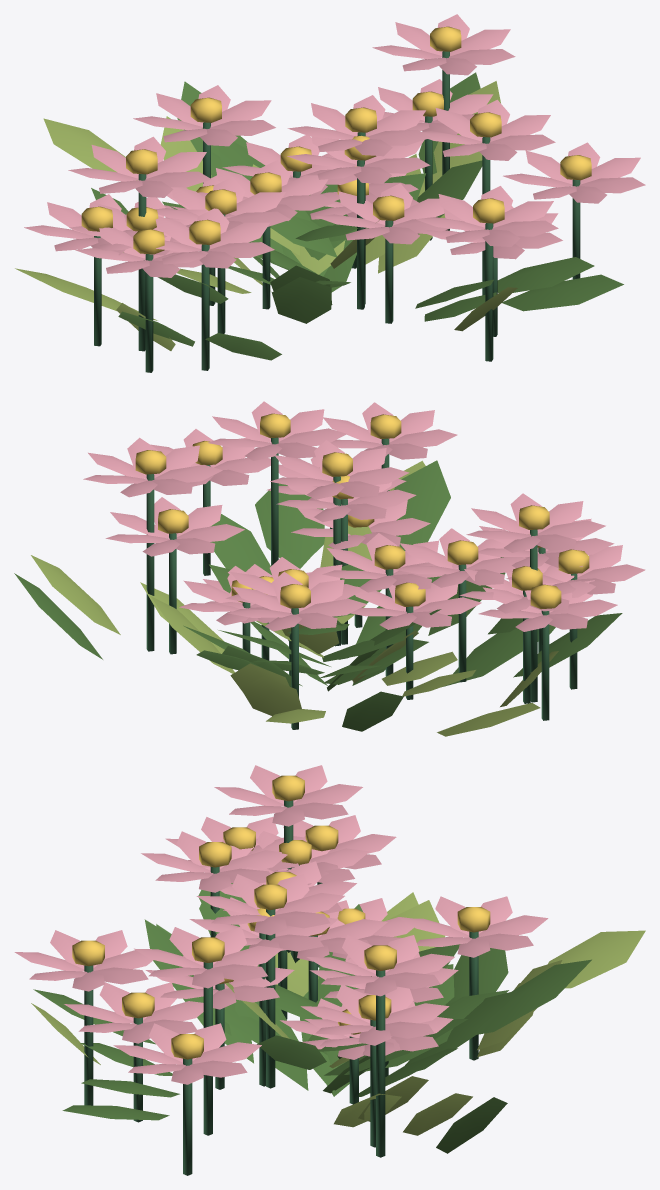
File: bush_flower_pink.glb
The picture shows the model from 3 angles, top to bottom: view 1: azimuth 30°, elevation 25°; view 2: azimuth 150°, elevation 25°; view 3: azimuth 270°, elevation 25°; orthographic projection. The views are drawn at different scales.
Visible parts, largest first — view 1: bush_flower_pink; view 2: bush_flower_pink; view 3: bush_flower_pink.
Boxes of the visible parts, left/top/right/bottom form: bush_flower_pink: left=15, top=14, right=645, bottom=372; bush_flower_pink: left=14, top=401, right=645, bottom=736; bush_flower_pink: left=14, top=765, right=645, bottom=1175.
Size of the model in its own units: 1.36 by 0.5602 by 1.36.
